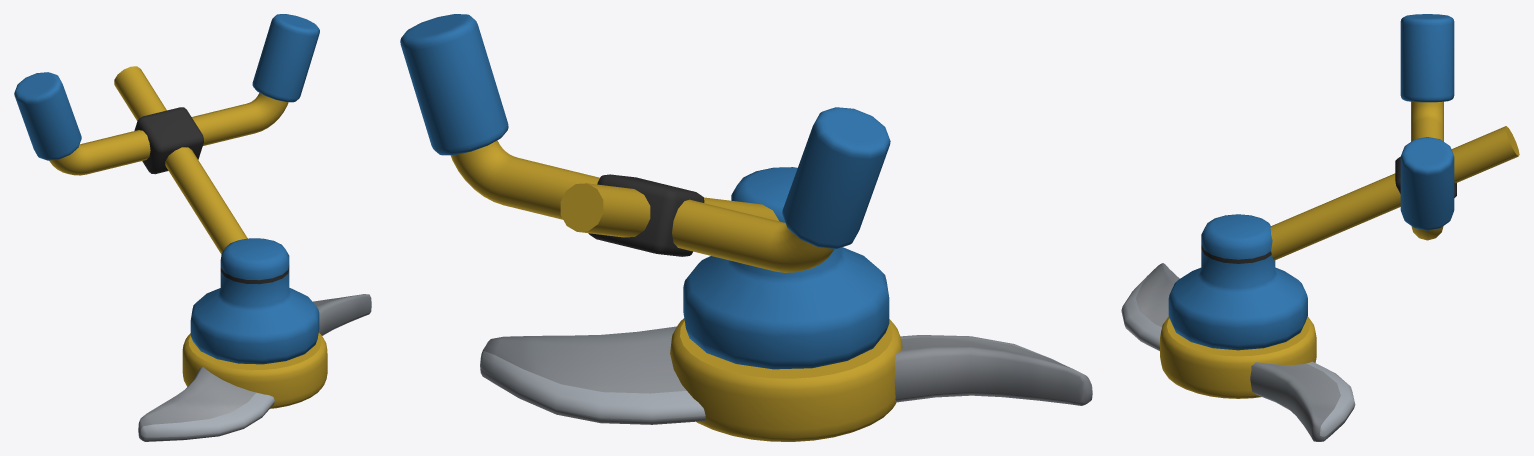
File: BrushCutter-Animated.fbx
The picture shows the model from 3 angles, left to right: view 1: azimuth 30°, elevation 25°; view 2: azimuth 150°, elevation 25°; view 3: azimuth 270°, elevation 25°; orthographic projection. The views are drawn at different scales.
Parts seen in each view (by area): view 1: BrushCutter-Animated, CutterBlade; view 2: BrushCutter-Animated, CutterBlade; view 3: BrushCutter-Animated, CutterBlade.
Part boxes in pixels (bbox=[...]): BrushCutter-Animated: bbox=[14, 14, 319, 364]; CutterBlade: bbox=[138, 294, 371, 441]; BrushCutter-Animated: bbox=[400, 14, 890, 369]; CutterBlade: bbox=[480, 318, 1092, 441]; BrushCutter-Animated: bbox=[1168, 14, 1519, 350]; CutterBlade: bbox=[1121, 263, 1355, 441].
Bounding box in the file's own units: 0.6412 × 0.5404 × 0.6723.
